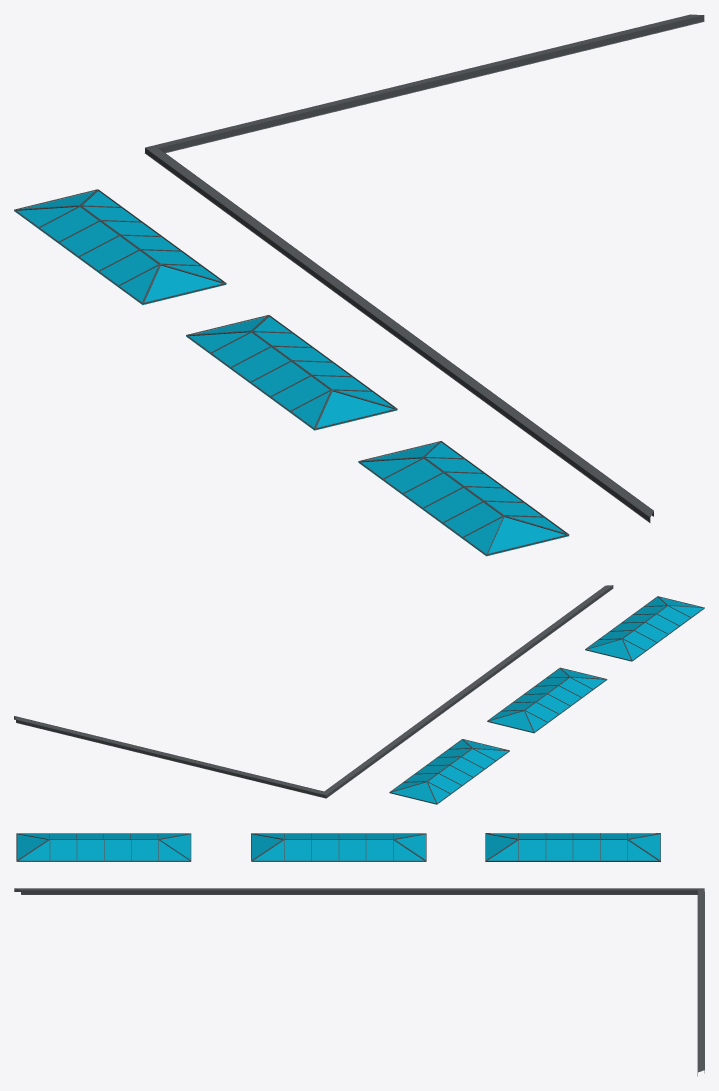
3 views of the same model, one above another, from view 1: azimuth 30°, elevation 25°; view 2: azimuth 150°, elevation 25°; view 3: azimuth 270°, elevation 25° (orthographic). The views are drawn at different scales.
Visible parts, largest first — view 1: 3XkA0Nz3D6ZxXRB6h$DmUz, 3XkA0Nz3D6ZxXRB6h$DmUy, 2UMN_OQKrAshZl3dHPuZNE, 2UMN_OQKrAshZl3dHPuZwu, 2UMN_OQKrAshZl3dHPuZMq, 2UMN_OQKrAshZl3dHPuZGW, 2UMN_OQKrAshZl3dHPuZGy, 2UMN_OQKrAshZl3dHPuZG_, 2UMN_OQKrAshZl3dHPuZGY, 2UMN_OQKrAshZl3dHPuZAb, 2UMN_OQKrAshZl3dHPuZMY, 2UMN_OQKrAshZl3dHPuZMa (+5 smaller); view 2: 3XkA0Nz3D6ZxXRB6h$DmUz, 3XkA0Nz3D6ZxXRB6h$DmUy, 2UMN_OQKrAshZl3dHPuZNC, 2UMN_OQKrAshZl3dHPuZMo, 2UMN_OQKrAshZl3dHPuZws; view 3: 3XkA0Nz3D6ZxXRB6h$DmUz, 3XkA0Nz3D6ZxXRB6h$DmUy, 2UMN_OQKrAshZl3dHPuZ2m, 2UMN_OQKrAshZl3dHPuZ1u, 2UMN_OQKrAshZl3dHPuZ0U, 2UMN_OQKrAshZl3dHPuZMu, 2UMN_OQKrAshZl3dHPuZMy, 2UMN_OQKrAshZl3dHPuZM_, 2UMN_OQKrAshZl3dHPuZ7R, 2UMN_OQKrAshZl3dHPuZMw, 2UMN_OQKrAshZl3dHPuZGo, 2UMN_OQKrAshZl3dHPuZGs (+8 smaller).
Boxes of the visible parts, left/top/right/bottom form: 3XkA0Nz3D6ZxXRB6h$DmUz: left=144, top=147, right=653, bottom=522; 3XkA0Nz3D6ZxXRB6h$DmUy: left=145, top=14, right=704, bottom=153; 2UMN_OQKrAshZl3dHPuZNE: left=142, top=265, right=225, bottom=304; 2UMN_OQKrAshZl3dHPuZwu: left=486, top=517, right=568, bottom=556; 2UMN_OQKrAshZl3dHPuZMq: left=314, top=391, right=396, bottom=430; 2UMN_OQKrAshZl3dHPuZGW: left=58, top=221, right=118, bottom=257; 2UMN_OQKrAshZl3dHPuZGy: left=39, top=207, right=98, bottom=243; 2UMN_OQKrAshZl3dHPuZG_: left=79, top=236, right=138, bottom=272; 2UMN_OQKrAshZl3dHPuZGY: left=98, top=250, right=157, bottom=286; 2UMN_OQKrAshZl3dHPuZAb: left=442, top=502, right=501, bottom=538; 2UMN_OQKrAshZl3dHPuZMY: left=210, top=332, right=269, bottom=368; 2UMN_OQKrAshZl3dHPuZMa: left=250, top=361, right=309, bottom=397; 3XkA0Nz3D6ZxXRB6h$DmUz: left=324, top=585, right=613, bottom=798; 3XkA0Nz3D6ZxXRB6h$DmUy: left=14, top=716, right=326, bottom=798; 2UMN_OQKrAshZl3dHPuZNC: left=390, top=782, right=436, bottom=804; 2UMN_OQKrAshZl3dHPuZMo: left=487, top=711, right=533, bottom=733; 2UMN_OQKrAshZl3dHPuZws: left=585, top=639, right=631, bottom=661; 3XkA0Nz3D6ZxXRB6h$DmUz: left=14, top=888, right=703, bottom=894; 3XkA0Nz3D6ZxXRB6h$DmUy: left=697, top=888, right=704, bottom=1076; 2UMN_OQKrAshZl3dHPuZ2m: left=131, top=840, right=158, bottom=861; 2UMN_OQKrAshZl3dHPuZ1u: left=77, top=840, right=104, bottom=861; 2UMN_OQKrAshZl3dHPuZ0U: left=104, top=840, right=131, bottom=861; 2UMN_OQKrAshZl3dHPuZMu: left=284, top=840, right=311, bottom=861; 2UMN_OQKrAshZl3dHPuZMy: left=311, top=840, right=338, bottom=861; 2UMN_OQKrAshZl3dHPuZM_: left=366, top=840, right=393, bottom=861; 2UMN_OQKrAshZl3dHPuZ7R: left=50, top=840, right=76, bottom=861; 2UMN_OQKrAshZl3dHPuZMw: left=339, top=840, right=365, bottom=861; 2UMN_OQKrAshZl3dHPuZGo: left=519, top=840, right=545, bottom=861; 2UMN_OQKrAshZl3dHPuZGs: left=546, top=840, right=572, bottom=861.
Size of the model in its own units: 26.47 by 0.6558 by 32.31.
